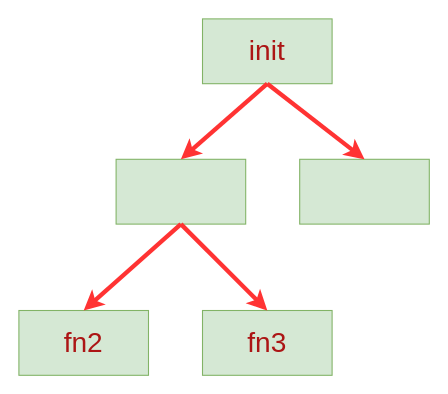
The diagram is 448 pixels wide and 394 high, and some of its shapes have lost their labels. Each missing label, with the centre of its shape:
"fn1" belongs at point (180, 191).
"fn4" belongs at point (364, 191).
